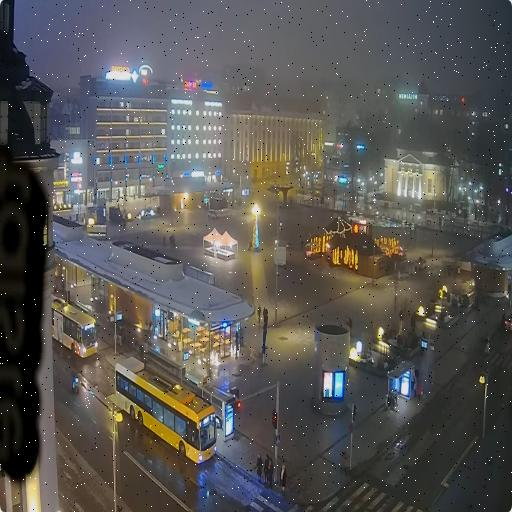Bus: (116, 357, 217, 462), (52, 297, 98, 356)
